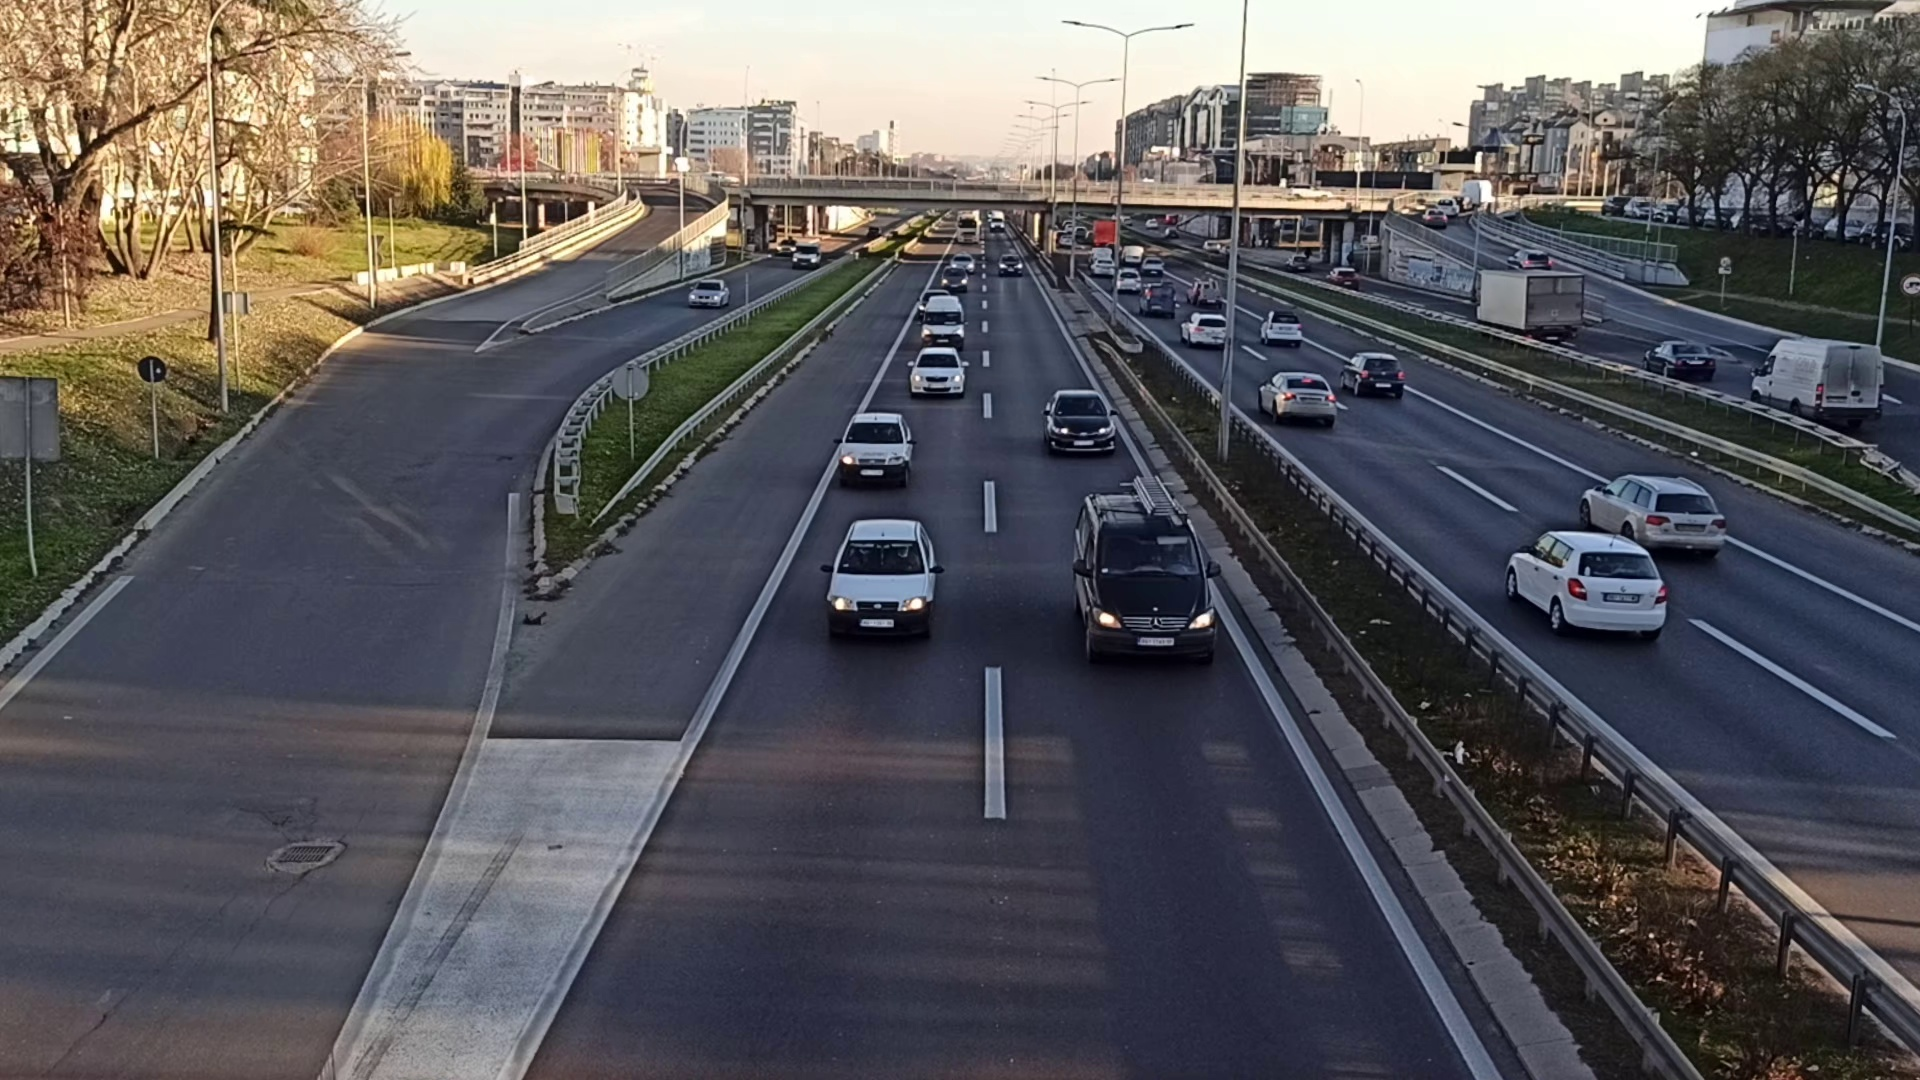car: (1505, 527, 1669, 647), (824, 517, 938, 640), (1578, 469, 1725, 560), (836, 410, 913, 484), (1044, 388, 1116, 454), (1255, 372, 1332, 425), (1644, 339, 1716, 389), (1337, 351, 1407, 400), (909, 348, 968, 400), (1258, 310, 1305, 344), (1180, 314, 1228, 345), (1138, 278, 1175, 315), (688, 278, 729, 307)
van: (1068, 489, 1218, 670), (1749, 334, 1888, 431), (916, 295, 967, 349)
